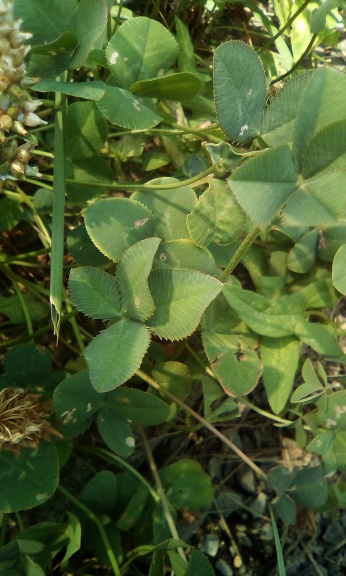4leaf: (67, 236, 225, 395)
